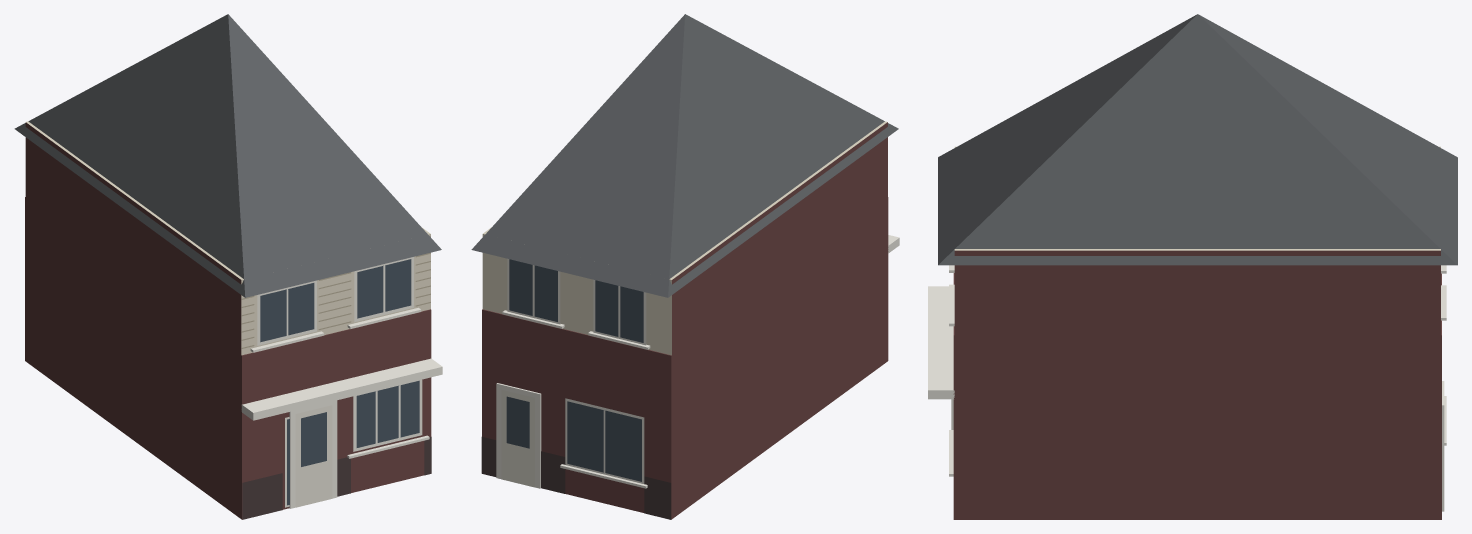
Rendered from th-gk-row__band__2__hip__long__solid__f0d1.glb.
3 renders of one model, left to right at view 1: azimuth 30°, elevation 25°; view 2: azimuth 150°, elevation 25°; view 3: azimuth 270°, elevation 25°, orthographic. The views are drawn at different scales.
Visible parts, largest first — view 1: th-gk-row__band__2__hip__long__solid__f0d1; view 2: th-gk-row__band__2__hip__long__solid__f0d1; view 3: th-gk-row__band__2__hip__long__solid__f0d1.
Boxes of the visible parts, box(x1,y1,x2,y2) form: th-gk-row__band__2__hip__long__solid__f0d1: box(14, 14, 442, 519); th-gk-row__band__2__hip__long__solid__f0d1: box(471, 14, 899, 519); th-gk-row__band__2__hip__long__solid__f0d1: box(928, 14, 1457, 519).
Bounding box in the file's own units: 5.28 × 10.33 × 10.92.
